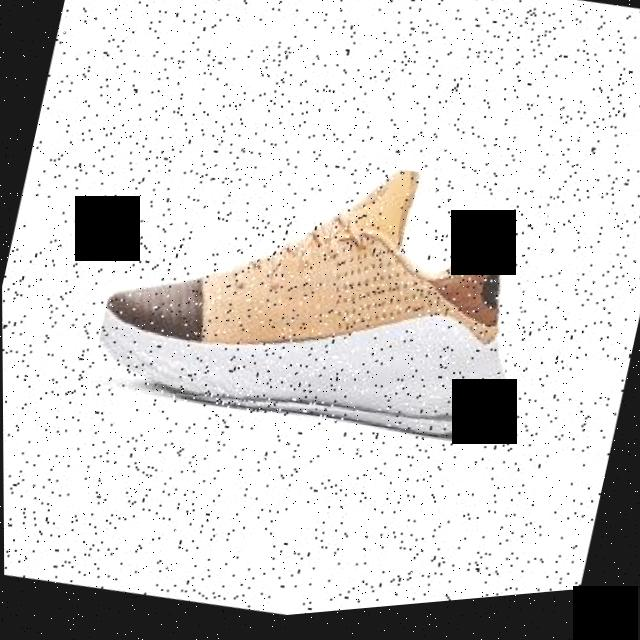shoe: (86, 107, 557, 484)
